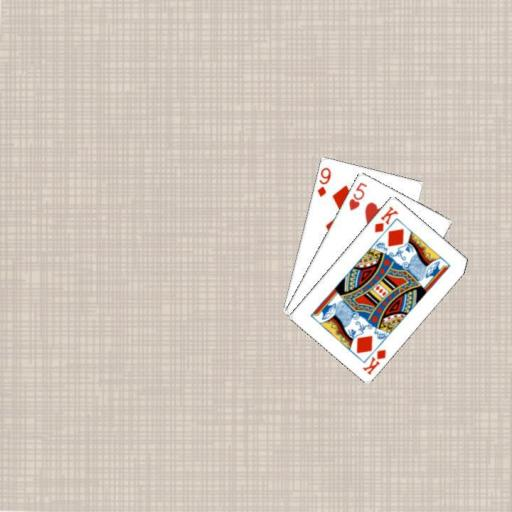5H: (346, 178, 369, 212)
9D: (314, 164, 332, 198)
KD: (371, 203, 400, 234), (359, 346, 388, 376)
